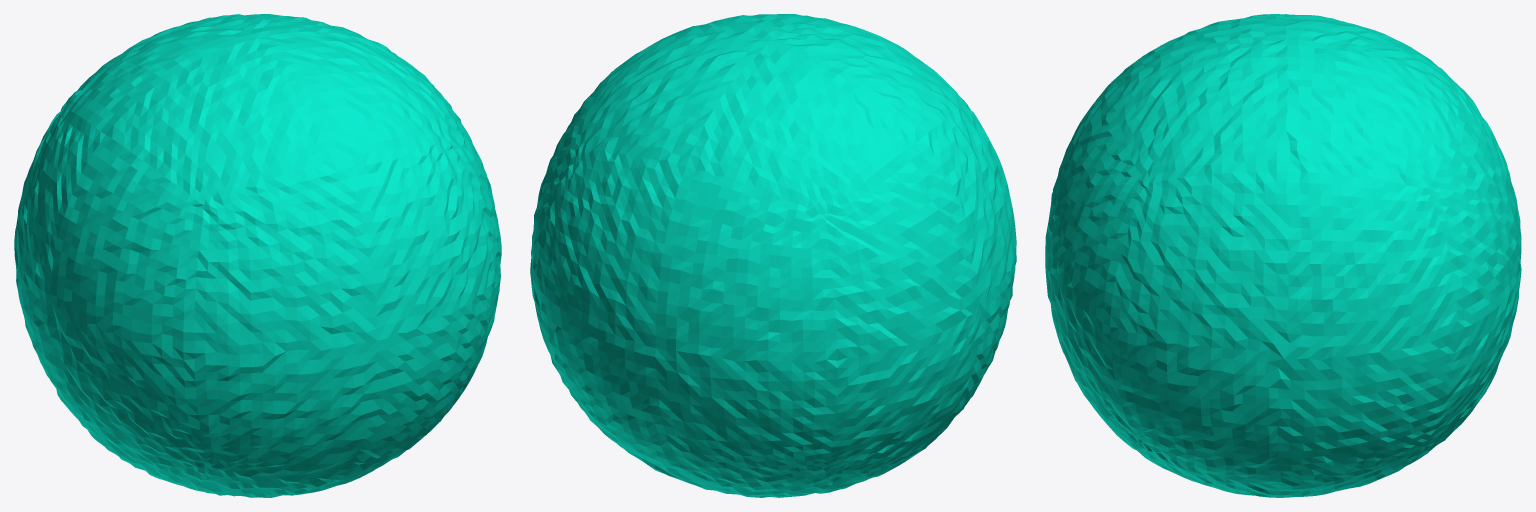
Rendered from Sea18.fbx.
The picture shows the model from 3 angles, left to right: view 1: azimuth 30°, elevation 25°; view 2: azimuth 150°, elevation 25°; view 3: azimuth 270°, elevation 25°; orthographic projection.
Visible parts, largest first — view 1: pCube1; view 2: pCube1; view 3: pCube1.
Boxes of the visible parts, left/top/right/bottom form: pCube1: left=14, top=14, right=501, bottom=497; pCube1: left=530, top=14, right=1016, bottom=497; pCube1: left=1045, top=14, right=1521, bottom=497.
Bounding box in the file's own units: 40.06 × 40.03 × 39.99.
